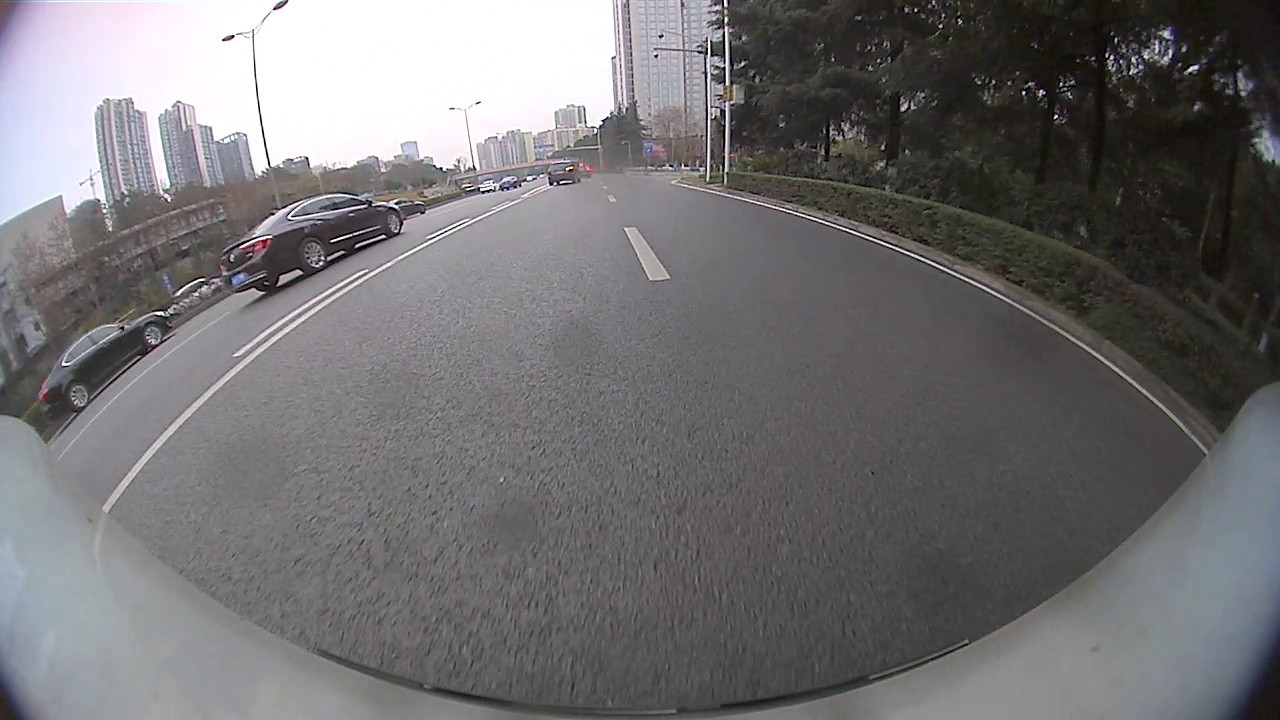car: (217, 191, 406, 296), (34, 309, 177, 411), (547, 158, 580, 186), (387, 198, 429, 217)
front: (385, 212, 403, 238), (143, 324, 163, 347)
rear: (300, 236, 327, 272), (66, 384, 92, 409)
